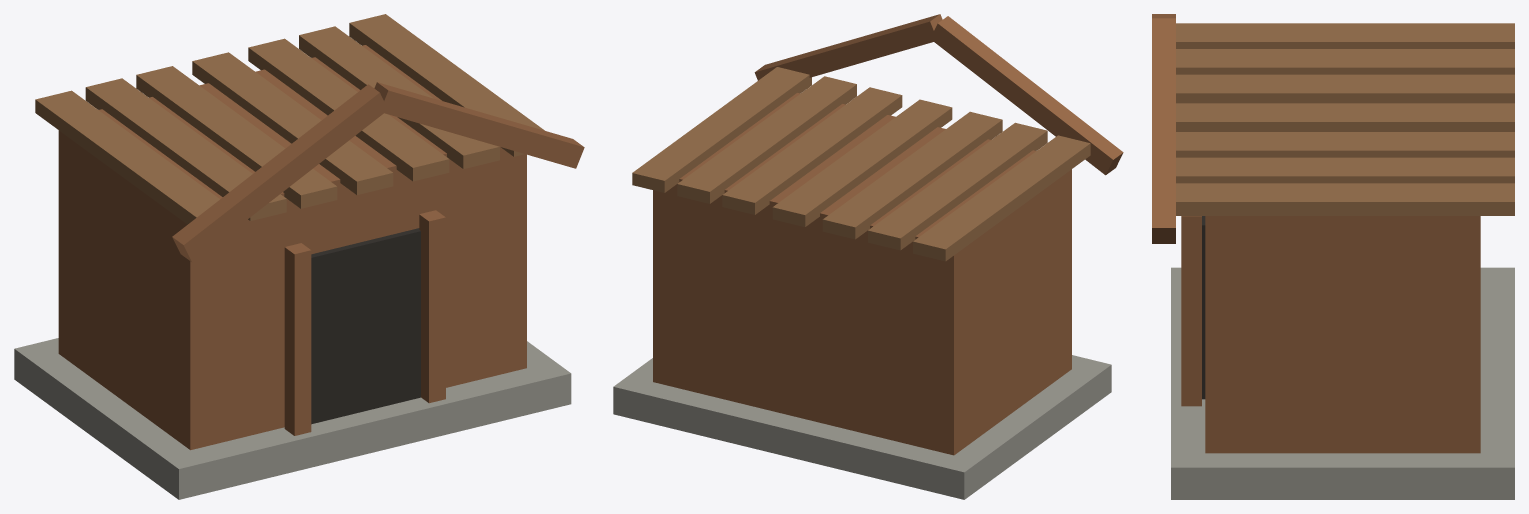
Rendered from board_boca_mina.glb.
The picture shows the model from 3 angles, left to right: view 1: azimuth 30°, elevation 25°; view 2: azimuth 150°, elevation 25°; view 3: azimuth 270°, elevation 25°; orthographic projection. The views are drawn at different scales.
Visible parts, largest first — view 1: board_boca_mina; view 2: board_boca_mina; view 3: board_boca_mina.
Boxes of the visible parts, bbox=[...] form: board_boca_mina: bbox=[14, 14, 584, 499]; board_boca_mina: bbox=[613, 14, 1123, 499]; board_boca_mina: bbox=[1152, 14, 1514, 499].
Size of the model in its own units: 8 by 7 by 6.
